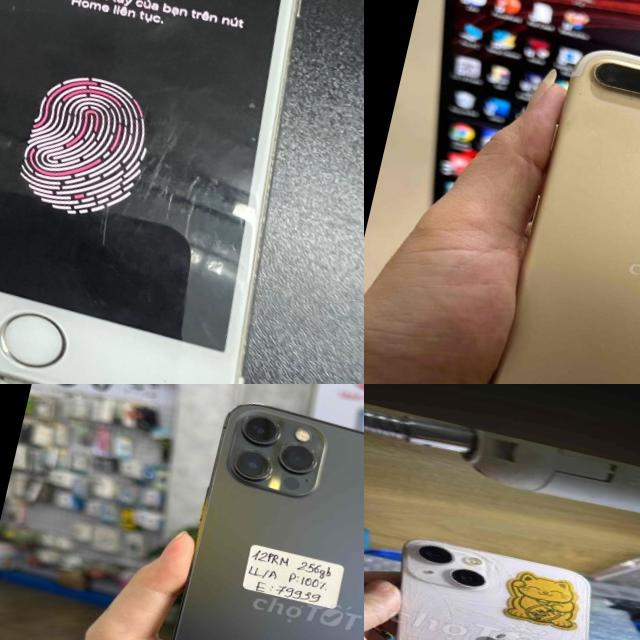gen_12_13: (143, 392, 364, 640)
gen_14: (364, 529, 627, 640)
gen_6: (0, 0, 364, 384)
gen_7_8: (466, 34, 640, 384)
